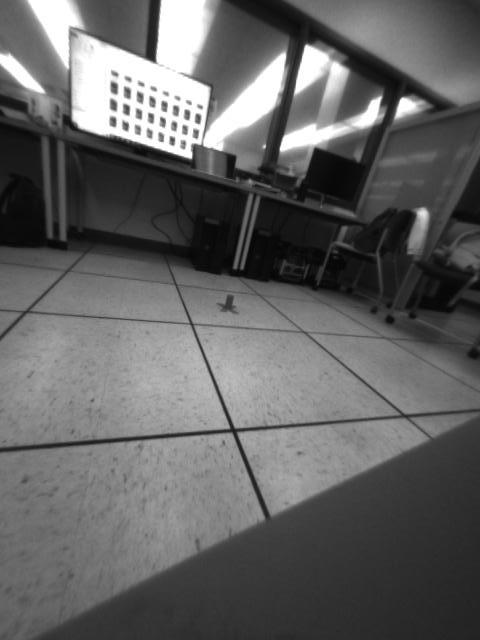X: (216, 295, 241, 316)
